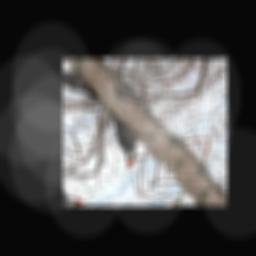Woodpecker: (87, 104, 154, 169)
